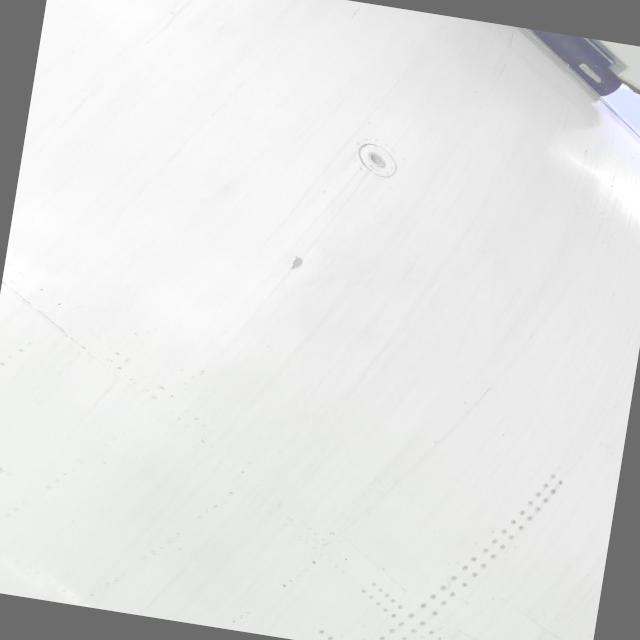crack: (464, 384, 498, 414), (284, 255, 312, 279)
